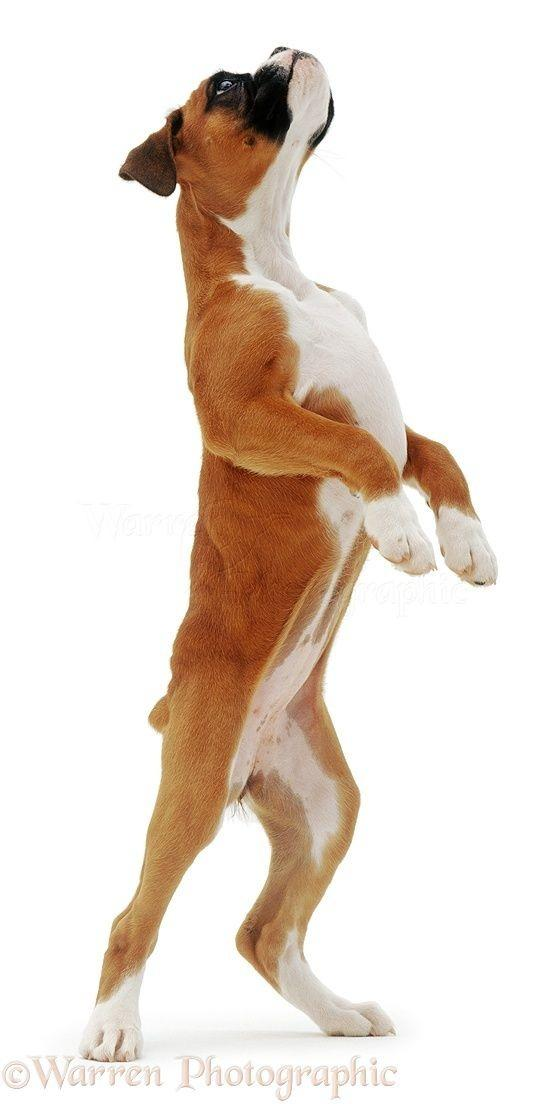puppy-dog: (78, 46, 499, 1064)
